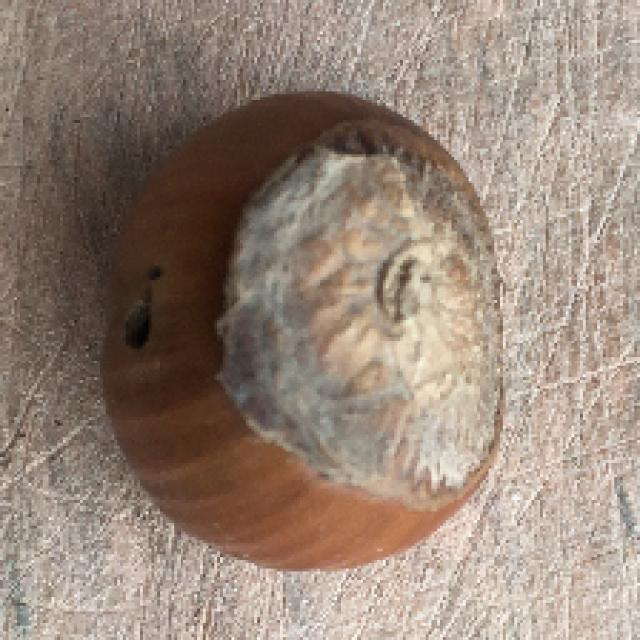damagedHazelnut: (99, 88, 512, 573)
